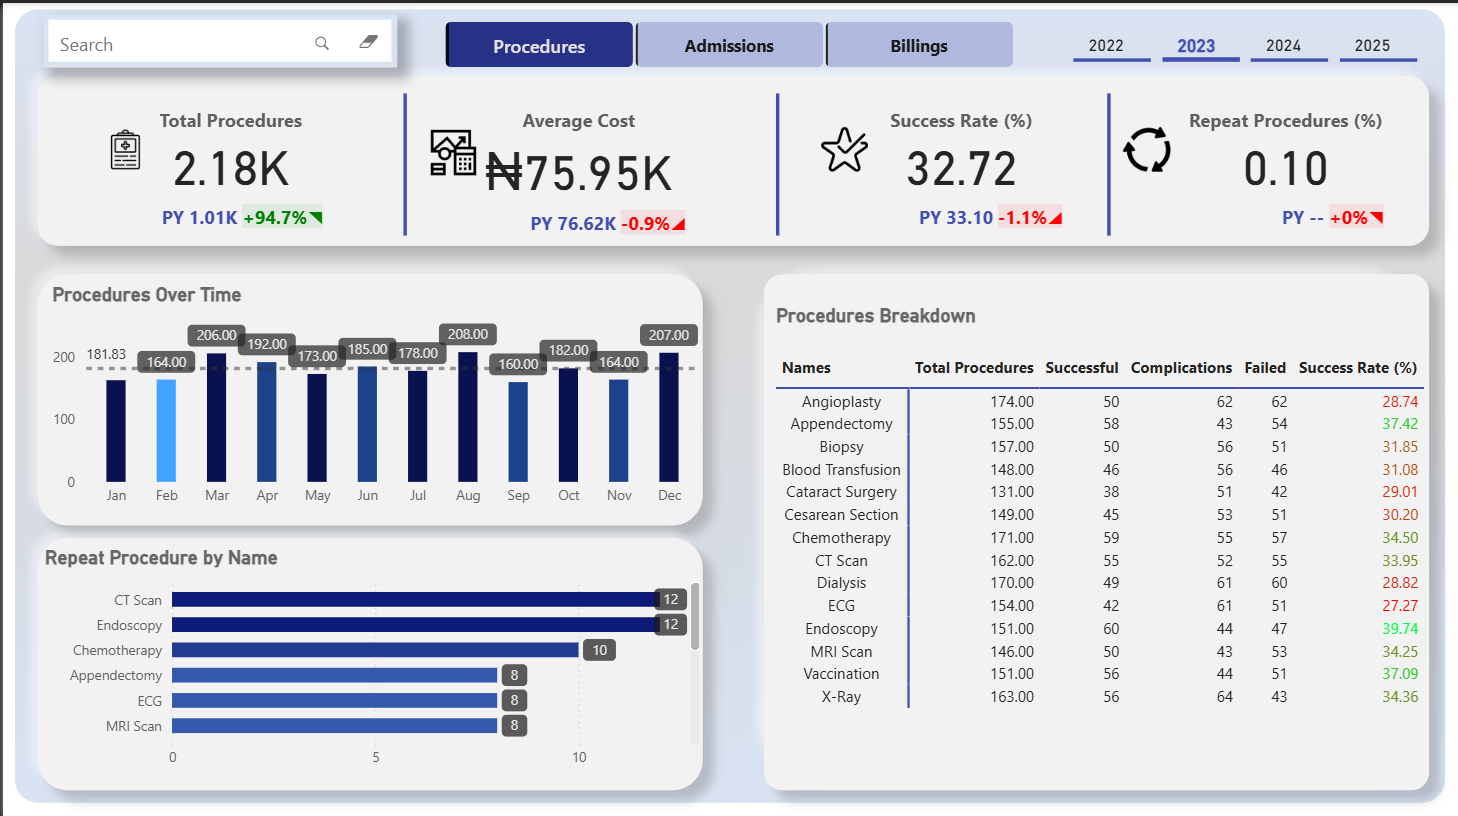

What the dashboard file says about the page in this screenshot:
{"tool":"powerbi","page":{"name":"Procedures","canvas":[1280,720],"ordinal":0},"visuals":[{"type":"cardVisual","fields":{"Data":["All Measures.Average Procedure"]},"box":[347.4,74.4,270.5,135.9],"z":0},{"type":"cardVisual","fields":{"Data":["All Measures.Total Procedures"]},"box":[47.4,74.4,251.3,132.1],"z":1000},{"type":"advancedSlicerVisual","fields":{"Values":["Calendar.Year"]},"box":[936.7,10.2,314.3,47.1],"z":2000},{"type":"cardVisual","fields":{"Data":["All Measures.Successful Procedure Rate (%)"]},"box":[675.6,74.4,274.4,135.9],"z":3000},{"type":"cardVisual","fields":{"Data":["All Measures.Repeat Procedures (%)"]},"box":[966.7,74.4,265.4,135.9],"z":4000},{"type":"lineClusteredColumnComboChart","title":"Procedures Over Time","fields":{"Category":["Calendar.Month"],"Y":["All Measures.Total Procedures"]},"box":[38.5,246.2,579.5,205.1],"z":5000},{"type":"clusteredBarChart","title":"Repeat Procedure by Name","fields":{"Y":["All Measures.Repeat Count"],"Category":["procedures.ProcedureName"]},"box":[31.9,477.2,586.1,204.5],"z":6000},{"type":"pivotTable","fields":{"Rows":["procedures.ProcedureName"],"Values":["All Measures.Total Procedures","procedures.Successful","procedures.Complications","procedures.Failed","All Measures.Successful Procedure Rate (%)"]},"box":[675.5,305,587.1,377.7],"z":7000},{"type":"textbox","box":[675.6,259,300,34.6],"z":8000},{"type":"textFilter25A4896A83E0487089E2B90C9AE57C8A","fields":{"field":["procedures.PerformedBy"]},"box":[35.6,10.2,311.8,47.1],"z":9000},{"type":"pageNavigator","box":[389.4,16.5,500.1,40.7],"z":10000}]}

Visuals, with their boxes in screenshot pixels (x1, y1, x2, y2), scaled from the page's 1280x720 canvas onto the 1458x816 screenshot:
cardVisual - All Measures.Average Procedure: (396,84,704,238)
cardVisual - All Measures.Total Procedures: (54,84,340,234)
advancedSlicerVisual - Calendar.Year: (1067,12,1425,65)
cardVisual - All Measures.Successful Procedure Rate (%): (770,84,1082,238)
cardVisual - All Measures.Repeat Procedures (%): (1101,84,1403,238)
"Procedures Over Time" lineClusteredColumnComboChart: (44,279,704,511)
"Repeat Procedure by Name" clusteredBarChart: (36,541,704,773)
pivotTable - procedures.ProcedureName x All Measures.Total Procedures: (769,346,1438,774)
textbox: (770,294,1111,333)
textFilter25A4896A83E0487089E2B90C9AE57C8A - procedures.PerformedBy: (41,12,396,65)
pageNavigator: (444,19,1013,65)
